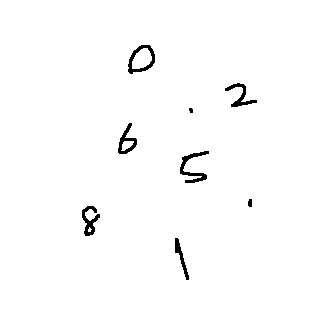.: (242, 190, 262, 218), (182, 101, 200, 121)
0: (118, 42, 176, 79)
1: (161, 229, 203, 286)
2: (222, 77, 264, 112)
5: (170, 148, 222, 188)
6: (112, 115, 150, 164)
8: (78, 199, 107, 245)
